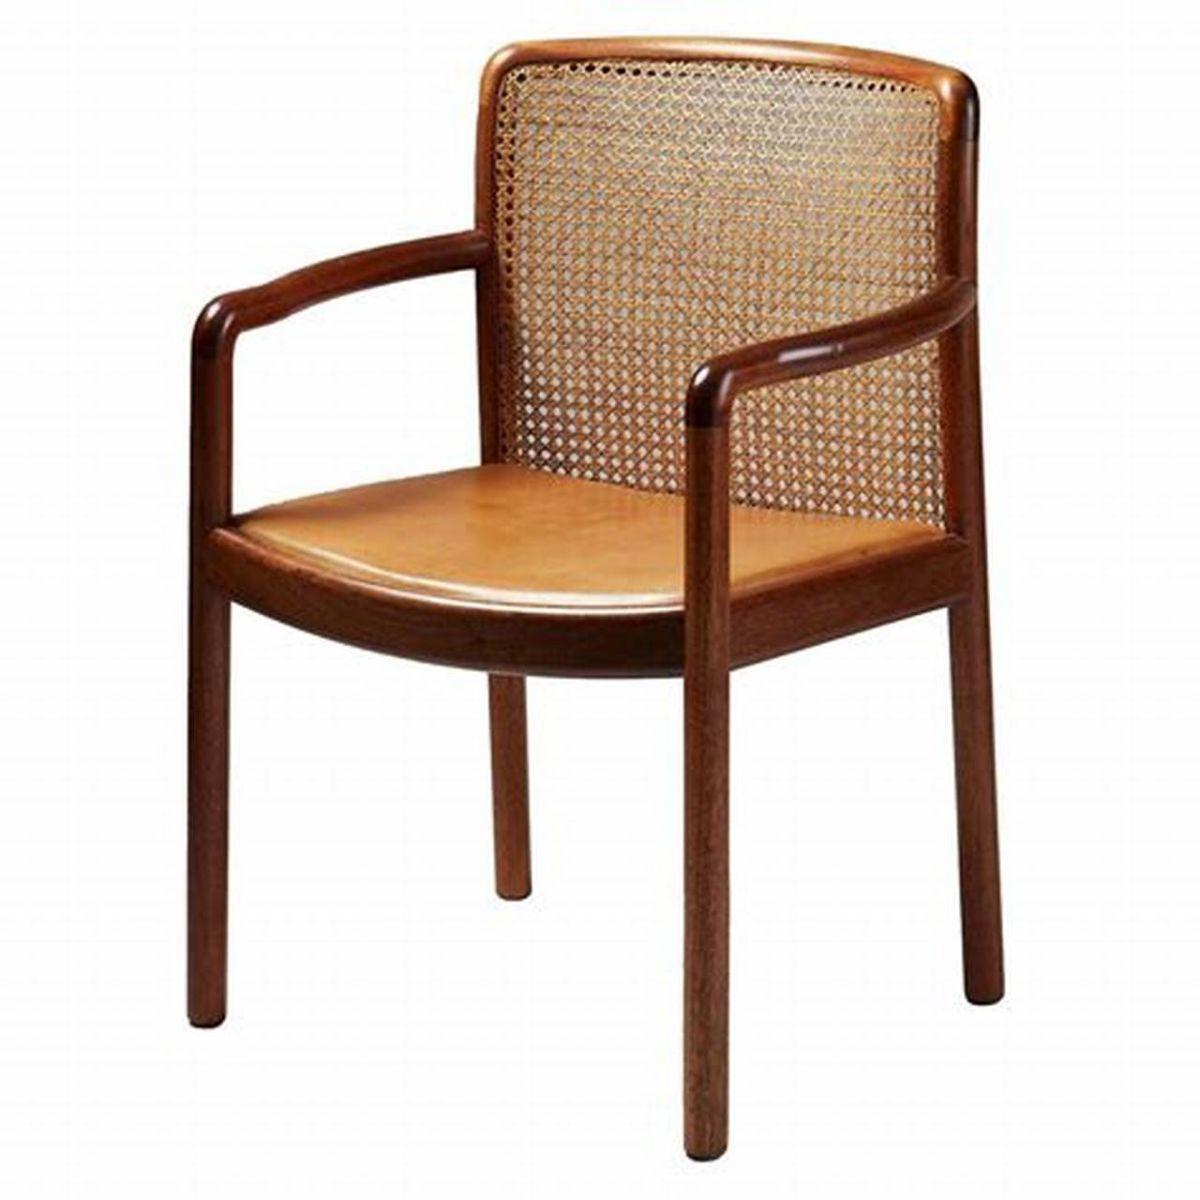Chair: (176, 34, 1016, 1166)
